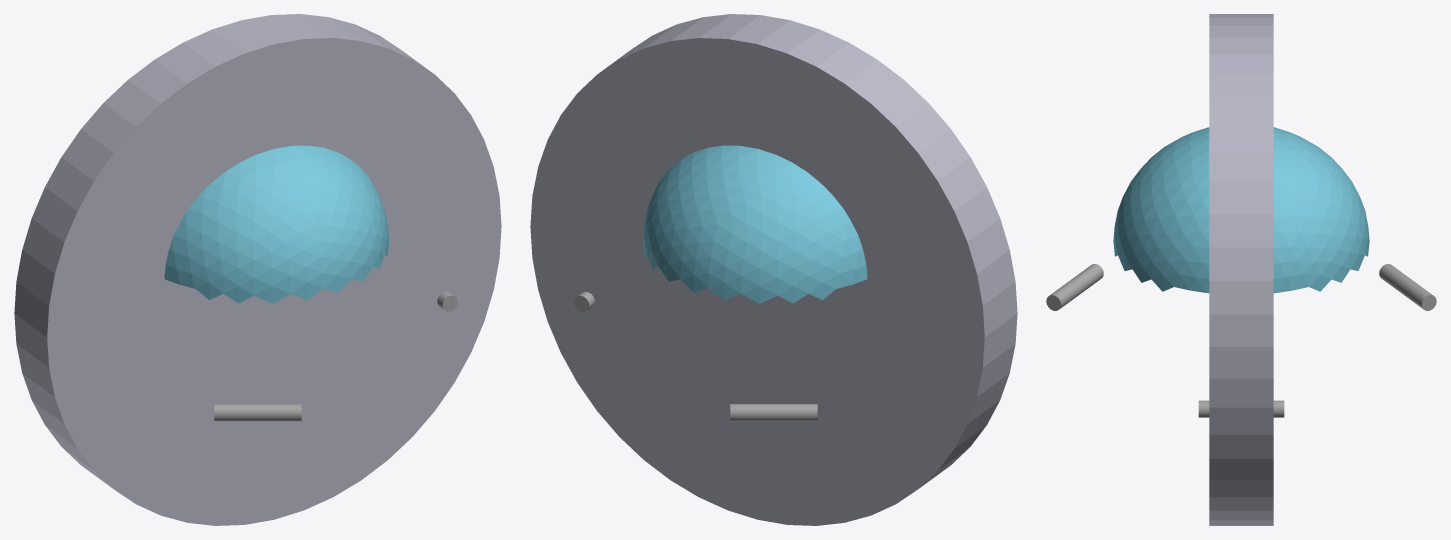
File: ufo.glb
The picture shows the model from 3 angles, left to right: view 1: azimuth 30°, elevation 25°; view 2: azimuth 150°, elevation 25°; view 3: azimuth 270°, elevation 25°; orthographic projection. The views are drawn at different scales.
Visible parts, largest first — view 1: world; view 2: world; view 3: world.
Part boxes in pixels (x1,y1,x2,y2): world: (14,14,501,525); world: (530,14,1017,525); world: (1046,14,1436,525).
Bounding box in the file's own units: 2.4 × 2.4 × 1.83.
